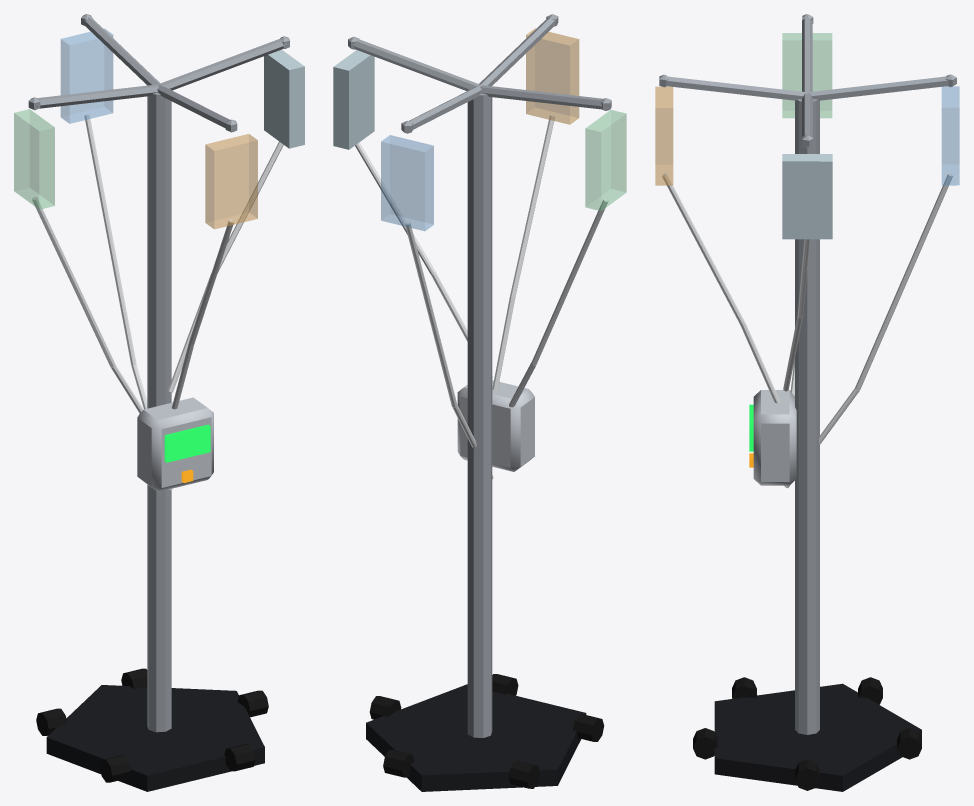
Rendered from cryo_nutrient_iv_tree.glb.
3 renders of one model, left to right at view 1: azimuth 30°, elevation 25°; view 2: azimuth 150°, elevation 25°; view 3: azimuth 270°, elevation 25°, orthographic.
Visible parts, largest first — view 1: cryo_nutrient_iv_tree; view 2: cryo_nutrient_iv_tree; view 3: cryo_nutrient_iv_tree.
Part boxes in pixels (x1,y1,x2,y2): cryo_nutrient_iv_tree: (14,14,304,791); cryo_nutrient_iv_tree: (333,14,626,791); cryo_nutrient_iv_tree: (655,14,959,791).
Size of the model in its own units: 0.8501 by 2.07 by 0.8501.
